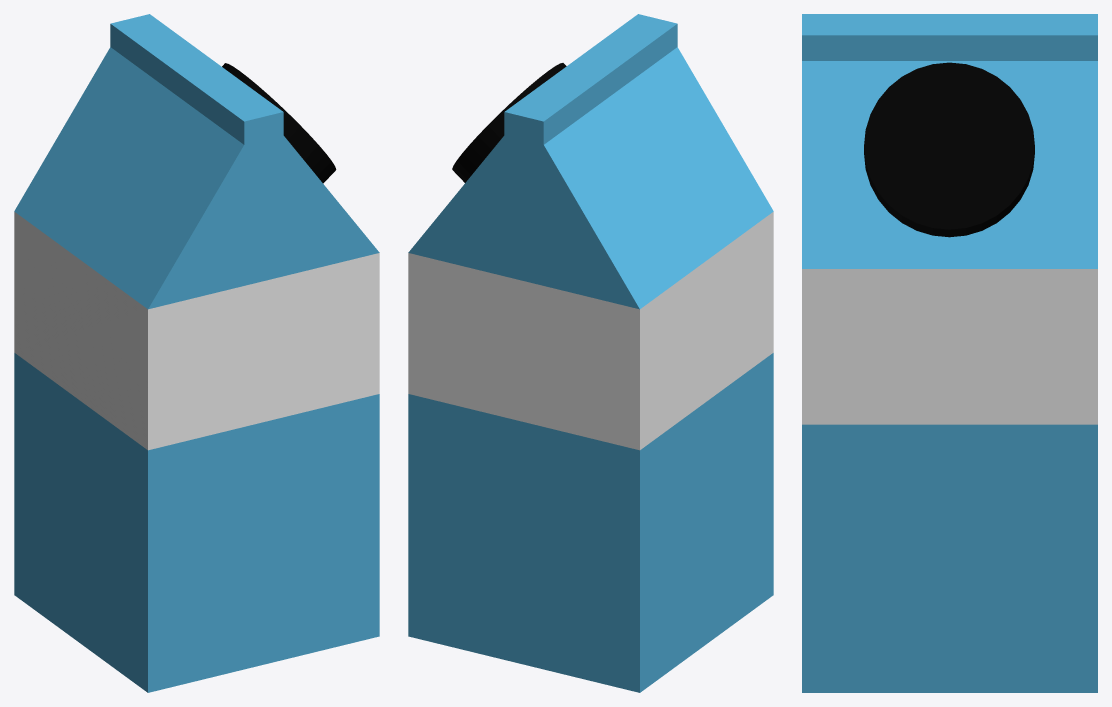
The model's file is MILK.fbx.
3 renders of one model, left to right at view 1: azimuth 30°, elevation 25°; view 2: azimuth 150°, elevation 25°; view 3: azimuth 270°, elevation 25°, orthographic. The views are drawn at different scales.
Visible parts, largest first — view 1: Cube; view 2: Cube; view 3: Cube.
Boxes of the visible parts, x1,y1,x2,y2 form: Cube: [14, 14, 379, 692]; Cube: [408, 14, 773, 692]; Cube: [802, 14, 1097, 692].
Size of the model in its own units: 130 by 283 by 125.
